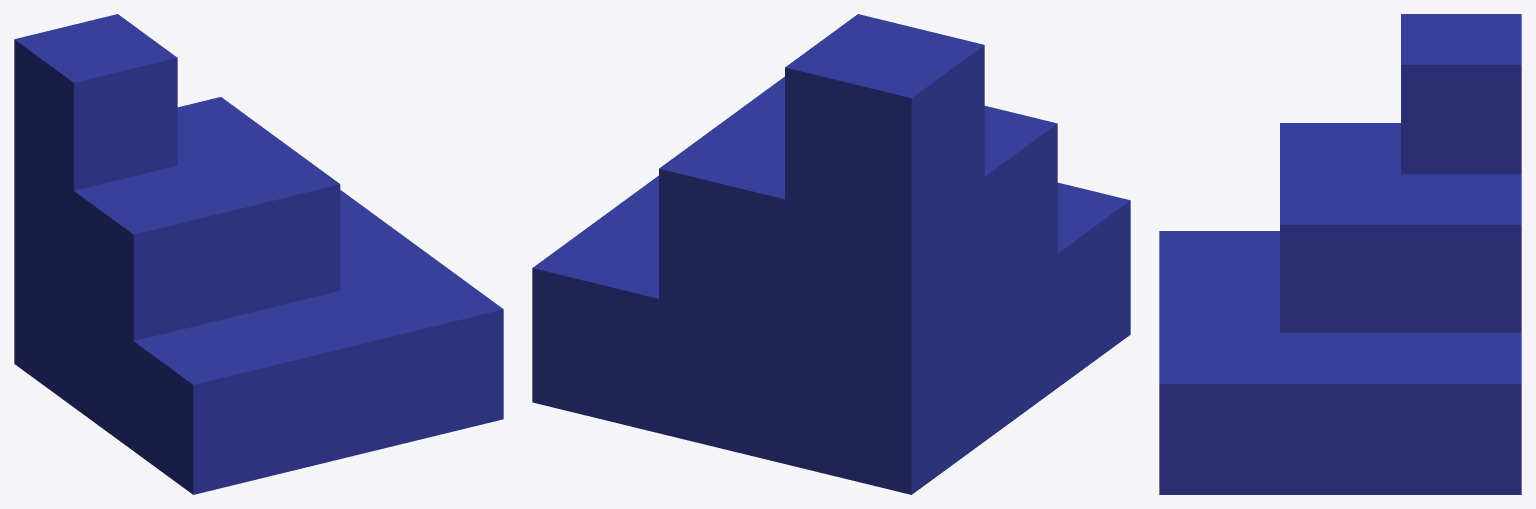
File: scala_corner1.fbx
3 renders of one model, left to right at view 1: azimuth 30°, elevation 25°; view 2: azimuth 150°, elevation 25°; view 3: azimuth 270°, elevation 25°, orthographic. The views are drawn at different scales.
Visible parts, largest first — view 1: scala_angolotiny; view 2: scala_angolotiny; view 3: scala_angolotiny.
Boxes of the visible parts, x1,y1,x2,y2 form: scala_angolotiny: (14, 14, 503, 494); scala_angolotiny: (532, 14, 1130, 494); scala_angolotiny: (1159, 14, 1521, 494).
Bounding box in the file's own units: 1 × 0.9995 × 1.
